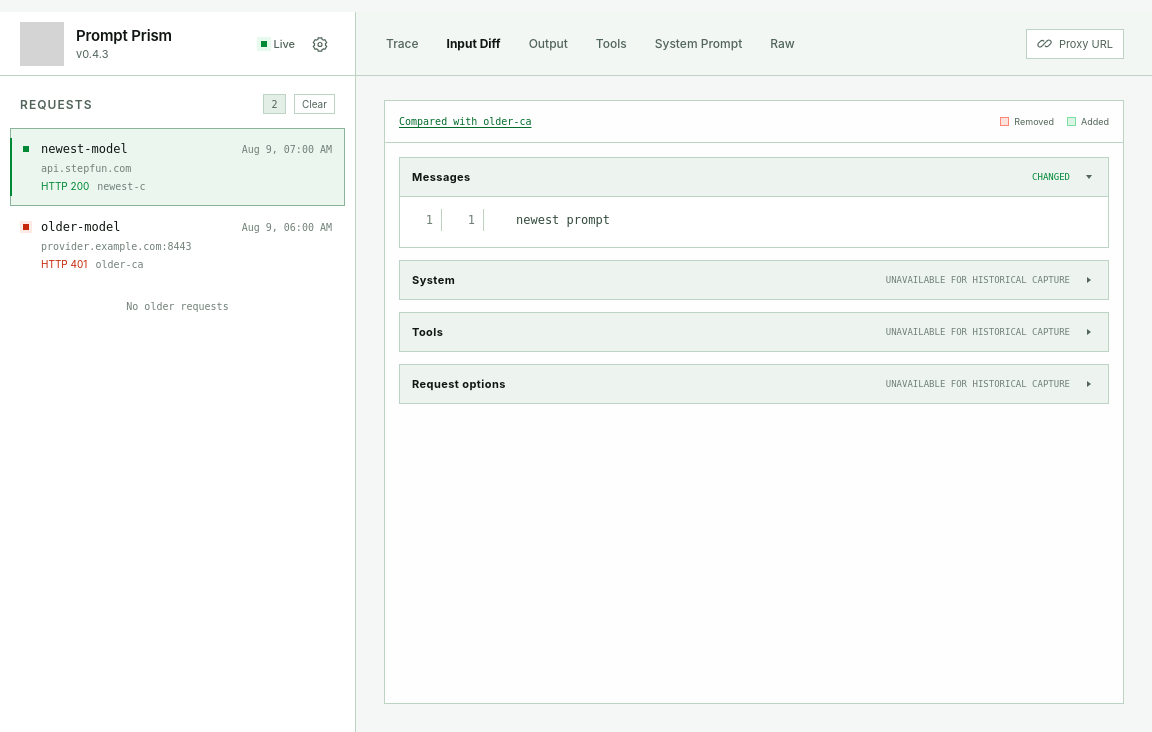
Test: App › navigates from an Input Diff parent link without reloading and preserves its target hash
Step 1. Click the link "Compared with older-ca" → (465, 122), box [399,116,532,127]
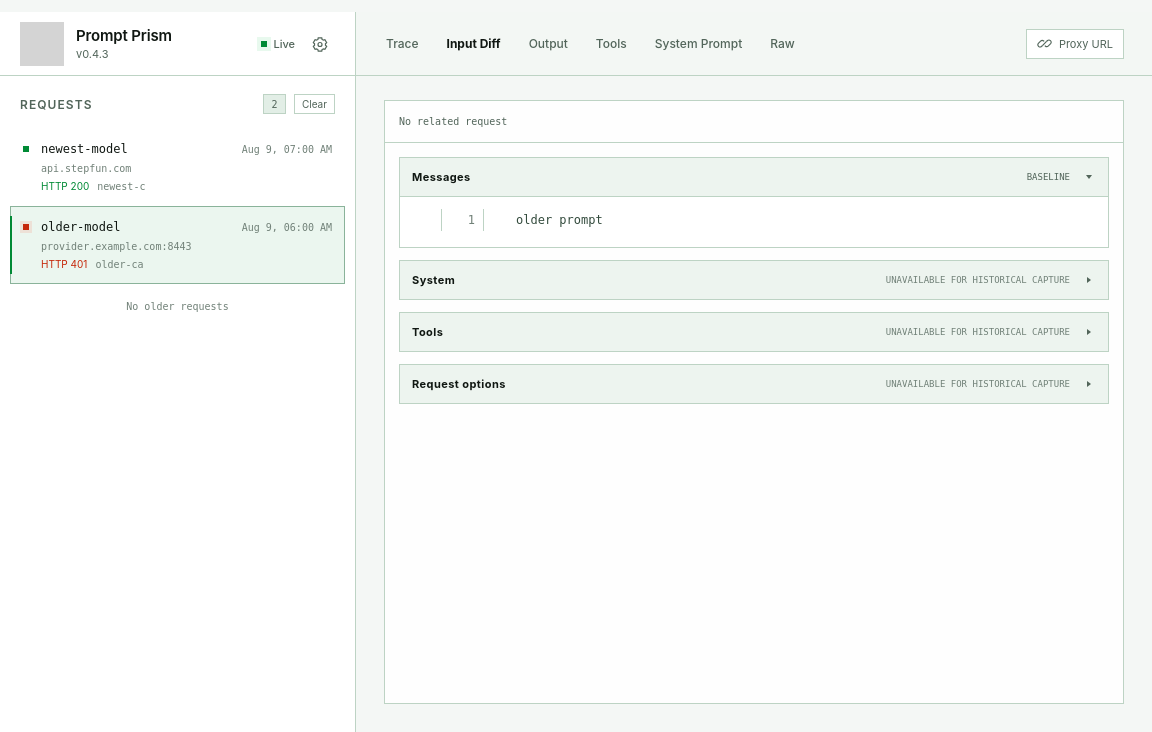
Check: the text "No related request" is shown, box [399,116,507,127]
